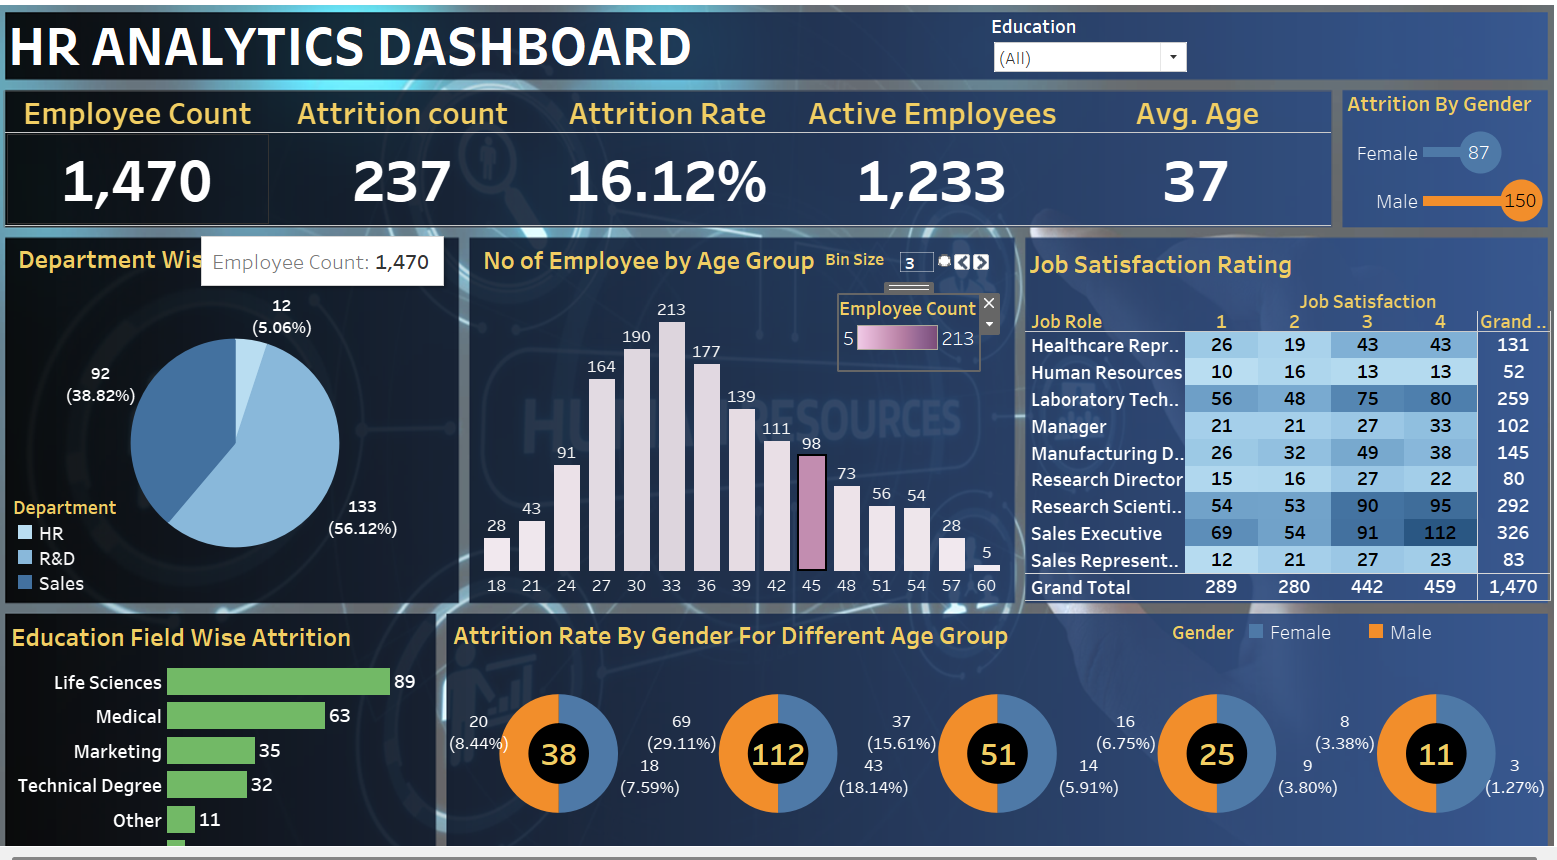

What the dashboard file says about the page in this screenshot:
{"tool":"tableau","page":{"name":"HR ANALYTICS DASHBOARD","canvas":[1580,900],"ordinal":0},"visuals":[{"type":"image","param":"C:/Users/priya/Downloads/HR background.png","box":[8,8,1564,884]},{"type":"filter","title":"Department Wise Attrition","param":"[federated.12z0e111vpgave1d33bc60ypcu9l].[none:Education:nk]","box":[1005,20,199,64]},{"type":"text","box":[18,21,788,59]},{"type":"worksheet","title":"Attrition By Gender","mark":"Automatic","rows":["Gender"],"cols":["Calculation_884957376739880960","Calculation_884957376739880960"],"box":[1357,92,205,140]},{"type":"worksheet","title":"KPI","mark":"Automatic","box":[19,99,1326,134]},{"type":"worksheet","title":"Department Wise Attrition","mark":"Pie","box":[28,245,442,362]},{"type":"worksheet","title":"No of Employee by Age Group","mark":"Automatic","rows":["Employee Count"],"cols":["Age (bin)"],"box":[493,246,526,358]},{"type":"worksheet","title":"Job Satisfaction Rating","mark":"Square","rows":["Job Role"],"cols":["Job Satisfaction"],"box":[1039,250,526,358]},{"type":"parameter","param":"[Parameters].[Parameter 1]","box":[839,256,167,35]},{"type":"legend","title":"No of Employee by Age Group","param":"[federated.12z0e111vpgave1d33bc60ypcu9l].[sum:Employee Count:qk]","box":[853,302,140,75]},{"type":"legend","title":"Department Wise Attrition","param":"[federated.12z0e111vpgave1d33bc60ypcu9l].[none:Department:nk]","box":[27,501,110,101]},{"type":"worksheet","title":"Attrition Rate By Gender For Different Age Group","mark":"Pie","rows":["Calculation_1177972829808250888","Calculation_1177972829808250888"],"cols":["CF_age band"],"box":[463,621,1097,260]},{"type":"worksheet","title":"Education Field Wise Attrition","mark":"Automatic","rows":["Education Field"],"cols":["Calculation_884957376739880960"],"box":[21,623,425,255]},{"type":"legend","title":"Attrition Rate By Gender For Different Age Group","param":"[federated.12z0e111vpgave1d33bc60ypcu9l].[none:Gender:nk]","box":[1186,626,353,46]}]}

Visuals, with their boxes on the page's 1580x900 design canvas (x1, y1, x2, y2). These are canvas units, not pixel positions in the 1557x860 screenshot, which may show the page scaled, cropped or inside an application window:
image: l=8, t=8, r=1572, b=892
"Department Wise Attrition" filter: l=1005, t=20, r=1204, b=84
text: l=18, t=21, r=806, b=80
"Attrition By Gender" worksheet: l=1357, t=92, r=1562, b=232
"KPI" worksheet: l=19, t=99, r=1345, b=233
"Department Wise Attrition" worksheet (Pie marks): l=28, t=245, r=470, b=607
"No of Employee by Age Group" worksheet: l=493, t=246, r=1019, b=604
"Job Satisfaction Rating" worksheet (Square marks): l=1039, t=250, r=1565, b=608
parameter: l=839, t=256, r=1006, b=291
"No of Employee by Age Group" legend: l=853, t=302, r=993, b=377
"Department Wise Attrition" legend: l=27, t=501, r=137, b=602
"Attrition Rate By Gender For Different Age Group" worksheet (Pie marks): l=463, t=621, r=1560, b=881
"Education Field Wise Attrition" worksheet: l=21, t=623, r=446, b=878
"Attrition Rate By Gender For Different Age Group" legend: l=1186, t=626, r=1539, b=672
